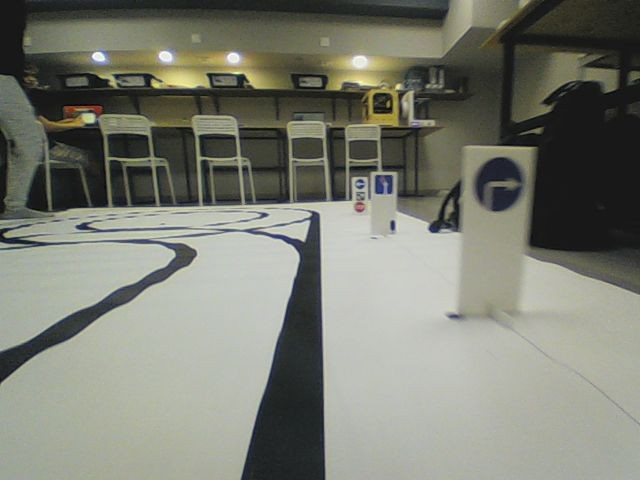Right: (472, 155, 525, 213)
priority_movement: (373, 173, 394, 196)
